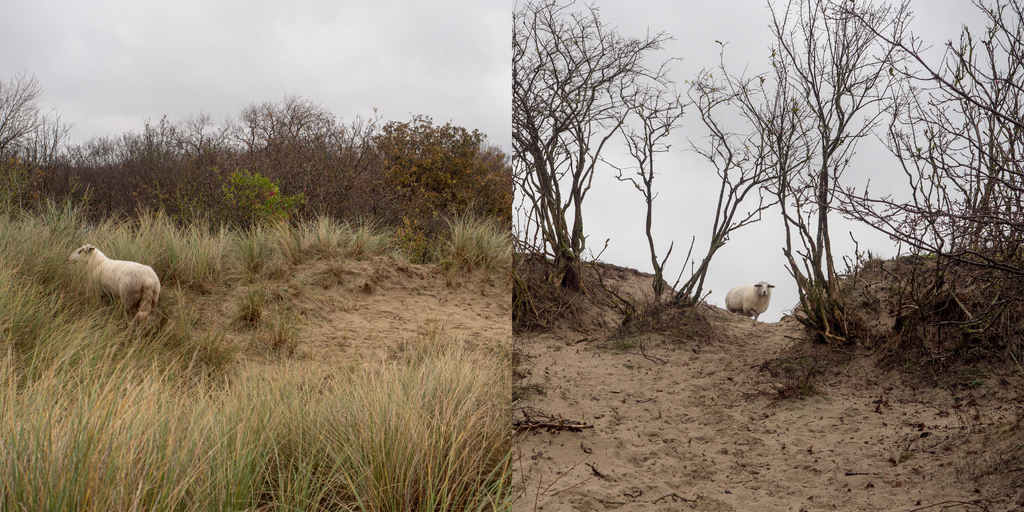sheep: (727, 283, 773, 323)
